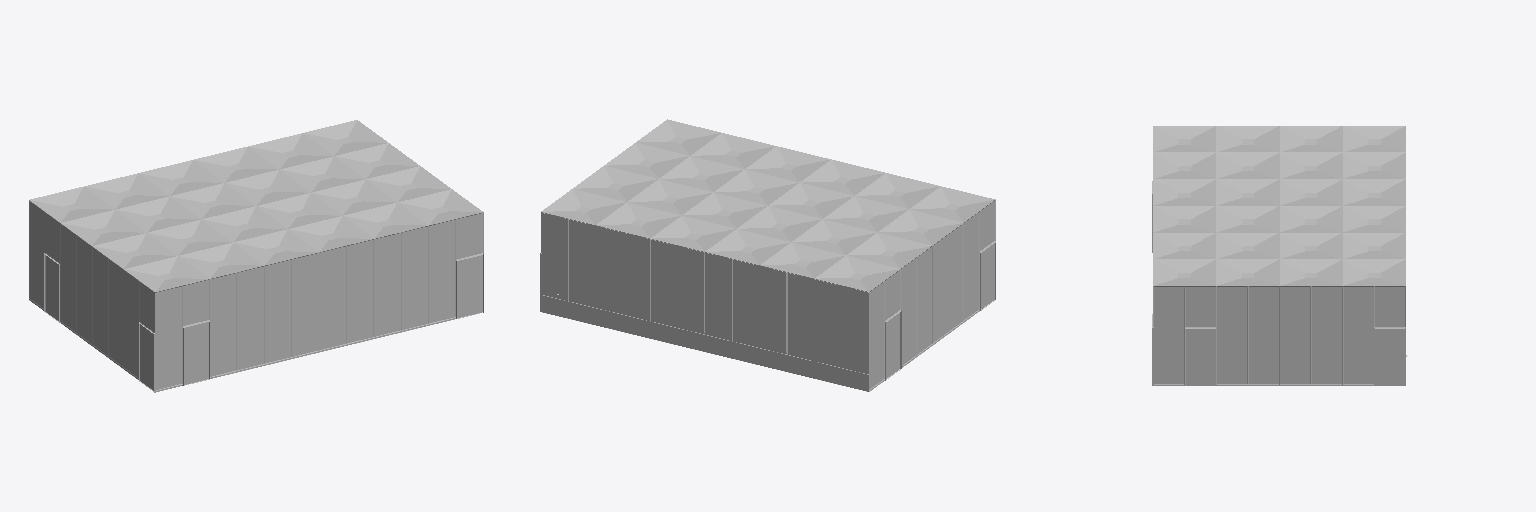
File: office1.obj
The picture shows the model from 3 angles: view 1: azimuth 30°, elevation 25°; view 2: azimuth 150°, elevation 25°; view 3: azimuth 270°, elevation 25°; orthographic projection.
Visible parts, largest first — view 1: window.007_Plane.006; view 2: window.007_Plane.006; view 3: window.007_Plane.006.
Boxes of the visible parts, box(x1,y1,x2,y2) form: window.007_Plane.006: box(29, 120, 483, 392); window.007_Plane.006: box(540, 119, 995, 391); window.007_Plane.006: box(1152, 126, 1407, 385).
Bounding box in the file's own units: 12.06 × 3.5 × 8.09.